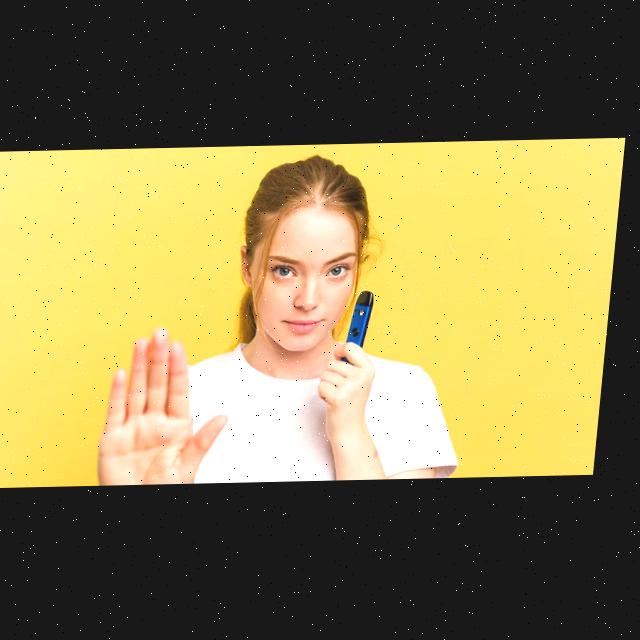vape: (353, 291, 382, 349)
